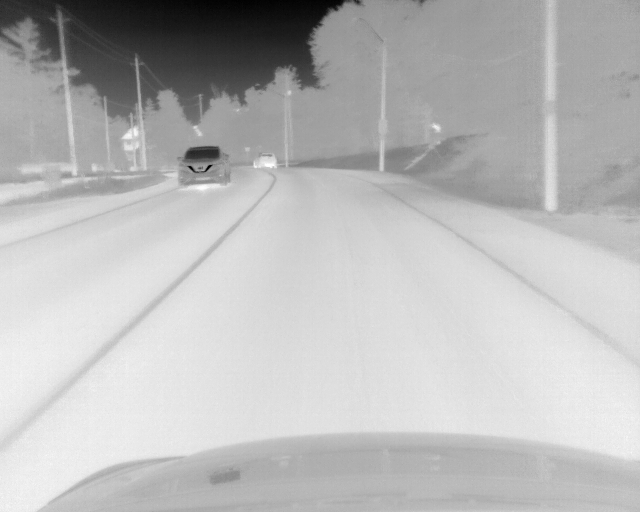car: (175, 144, 232, 188), (249, 150, 278, 171)
